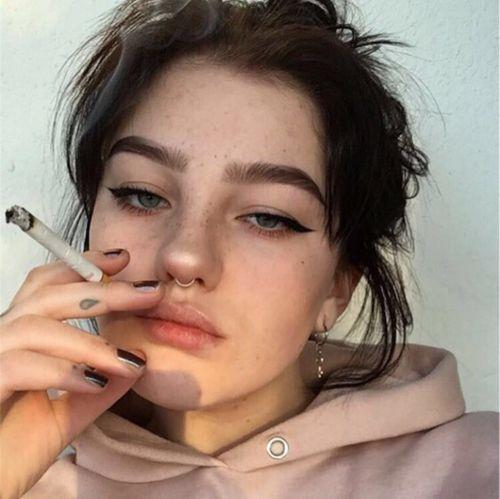cigarette: (6, 205, 114, 282)
